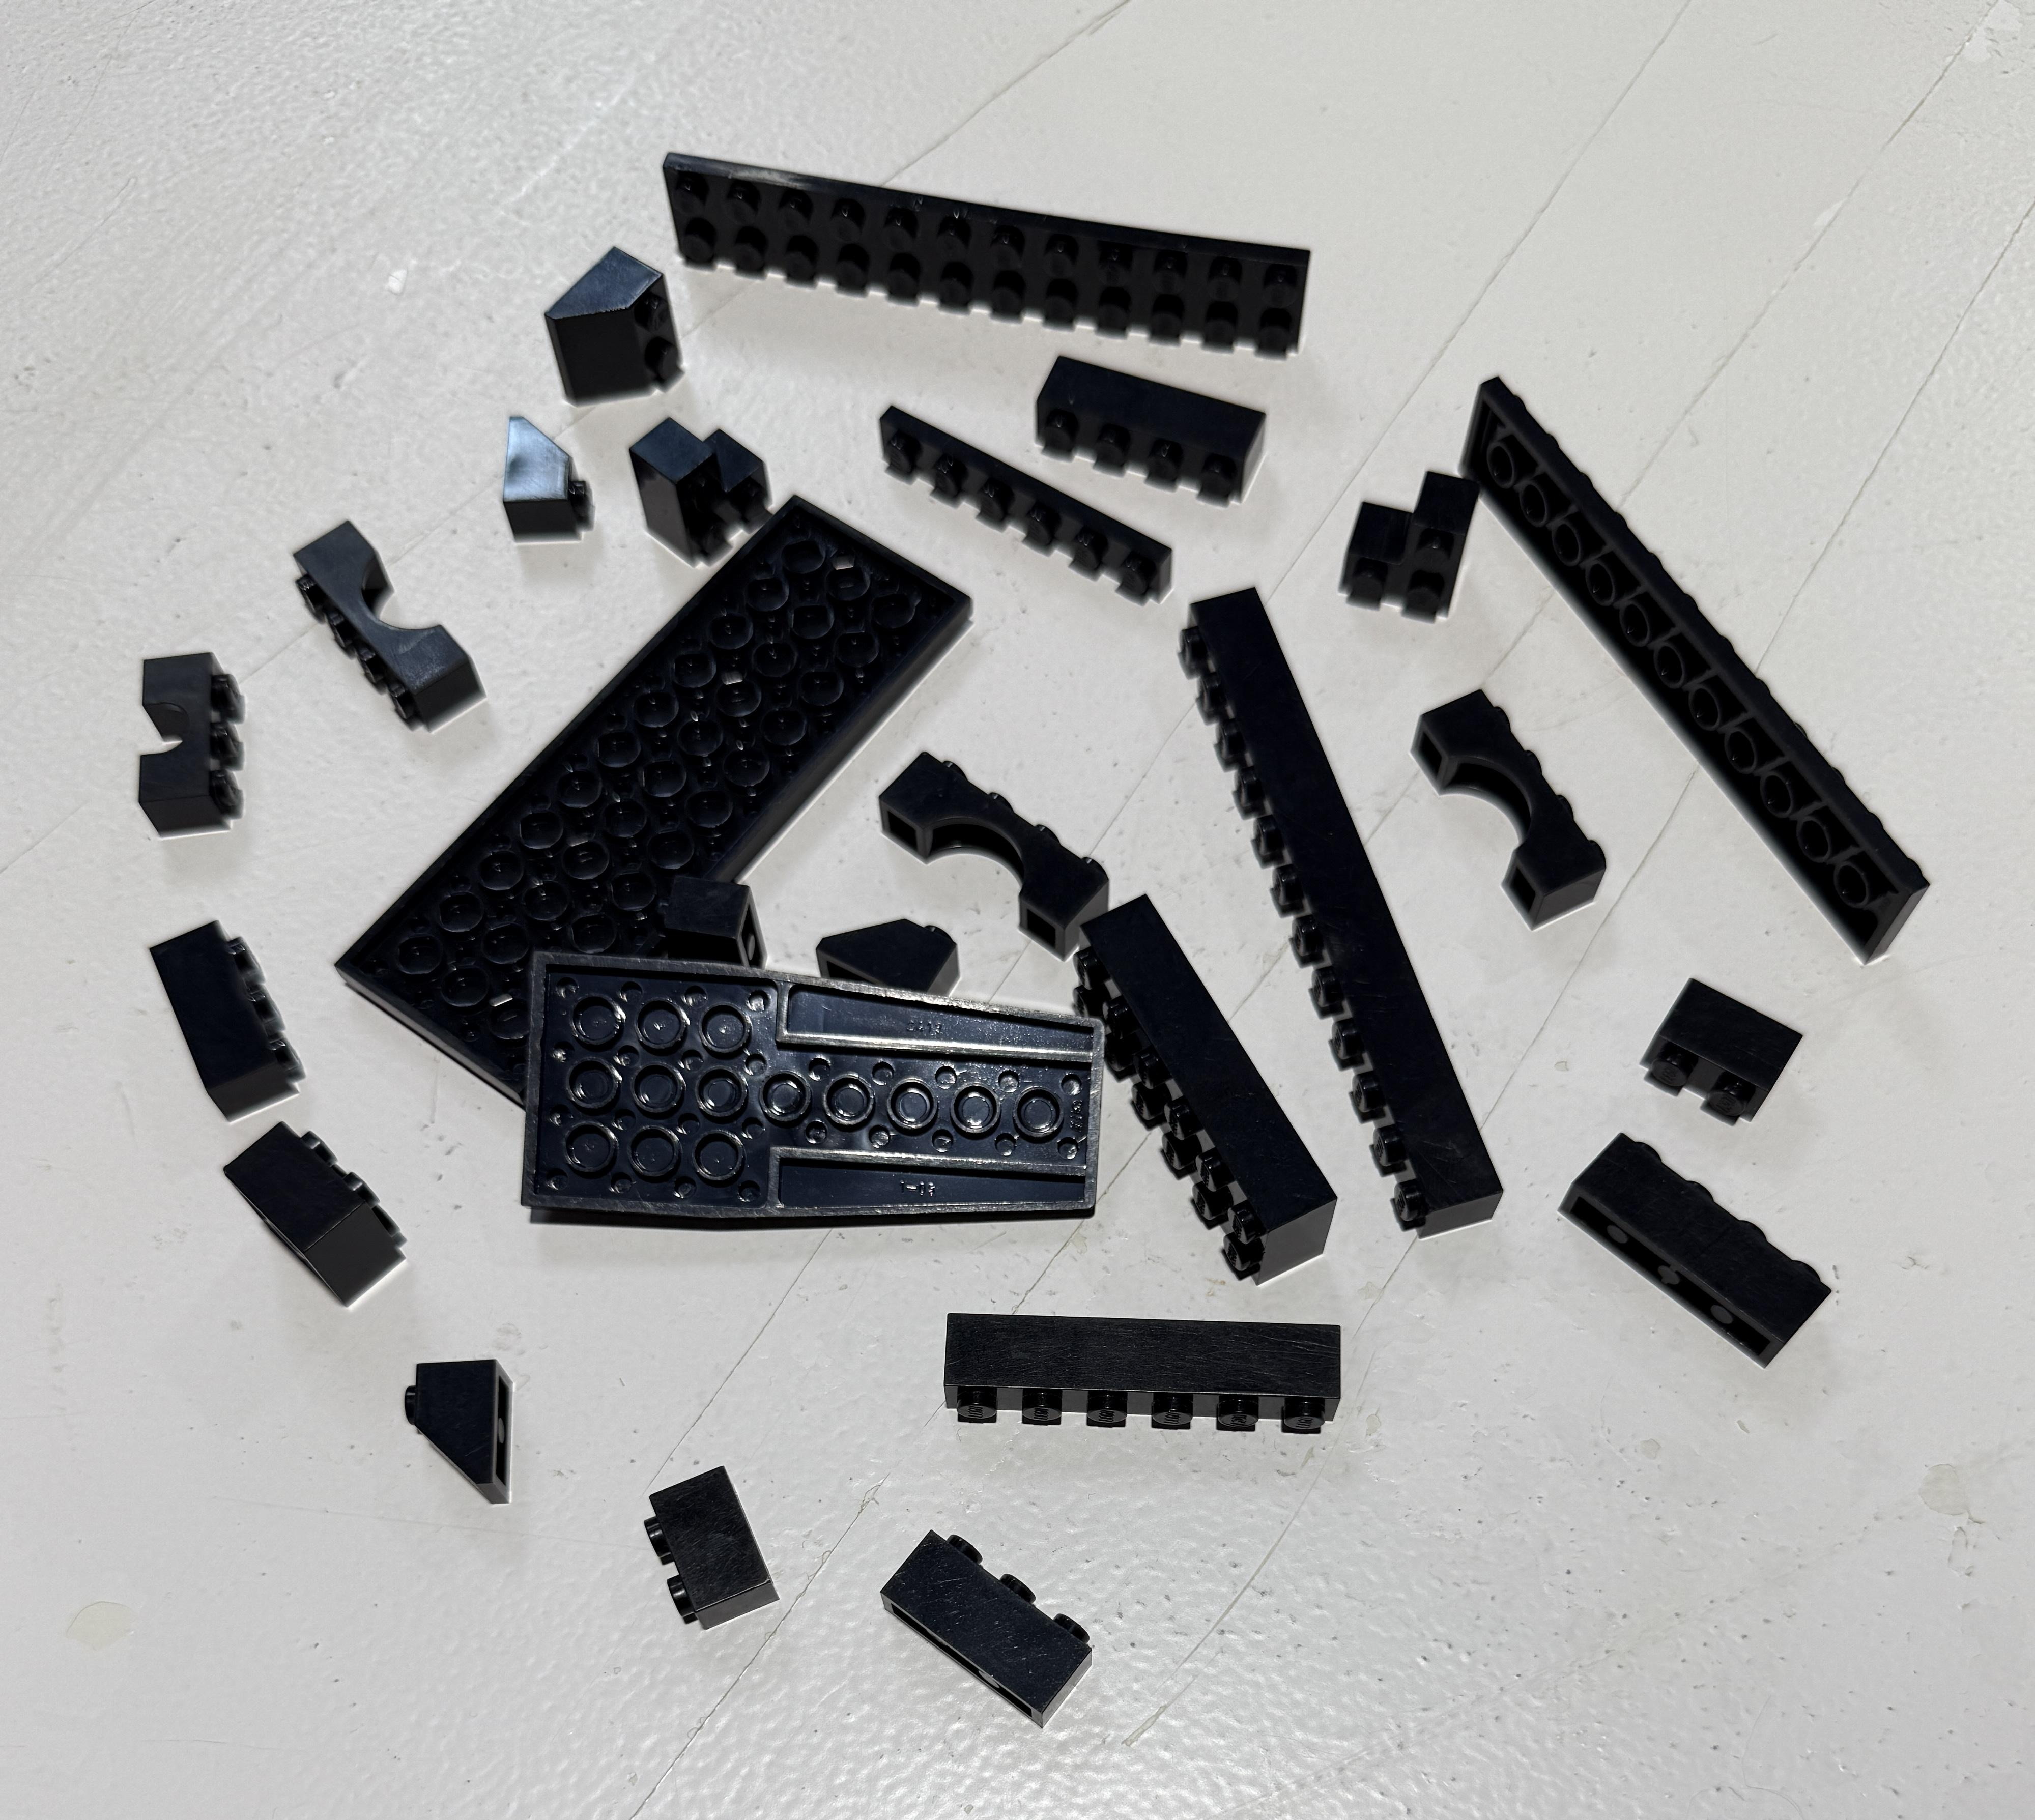brick_1x2: (601, 1428, 812, 1665), (1634, 963, 1843, 1126)
brick_1x3: (854, 1490, 1137, 1736), (114, 889, 334, 1133)
brick_1x4: (1580, 1121, 1863, 1384), (1017, 334, 1290, 529)
brick_2x2: (176, 1112, 478, 1344)
